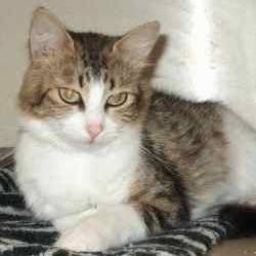cat: (13, 7, 256, 254)
